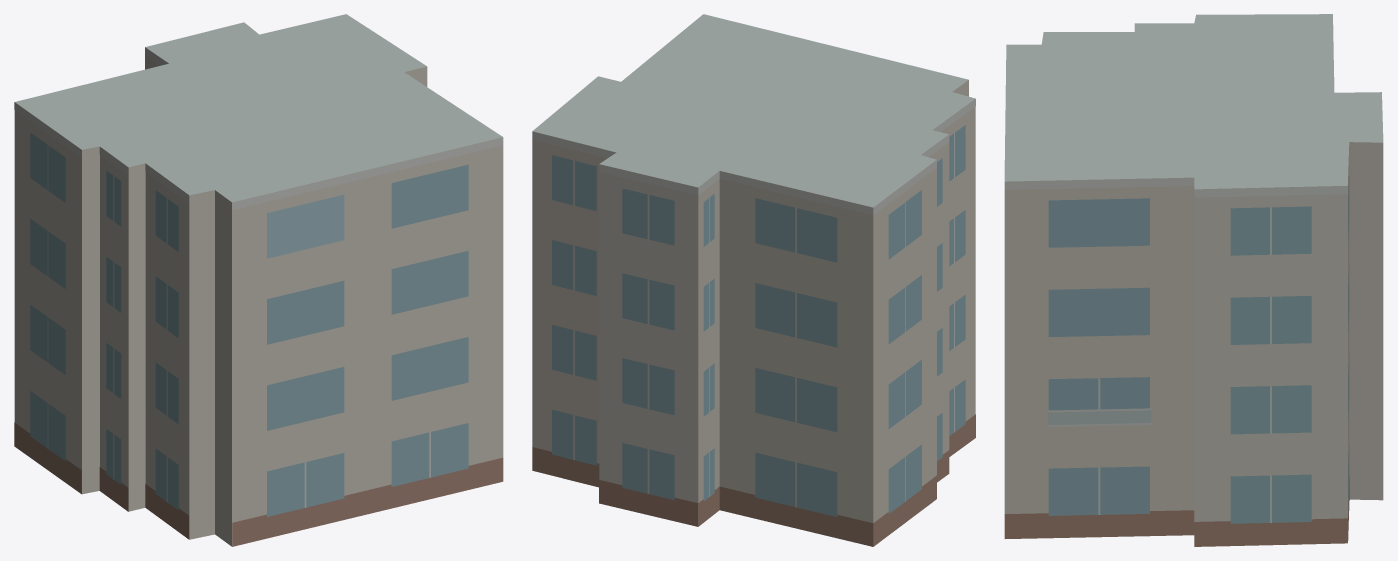
File: survey-upis-32497105.glb
The picture shows the model from 3 angles, left to right: view 1: azimuth 30°, elevation 25°; view 2: azimuth 150°, elevation 25°; view 3: azimuth 270°, elevation 25°; orthographic projection. The views are drawn at different scales.
Visible parts, largest first — view 1: survey-upis-32497105.tmp; view 2: survey-upis-32497105.tmp; view 3: survey-upis-32497105.tmp.
Boxes of the visible parts, left/top/right/bottom form: survey-upis-32497105.tmp: left=14, top=14, right=503, bottom=546; survey-upis-32497105.tmp: left=532, top=14, right=975, bottom=546; survey-upis-32497105.tmp: left=1004, top=14, right=1383, bottom=546.
Bounding box in the file's own units: 11.05 × 10.5 × 10.1.
